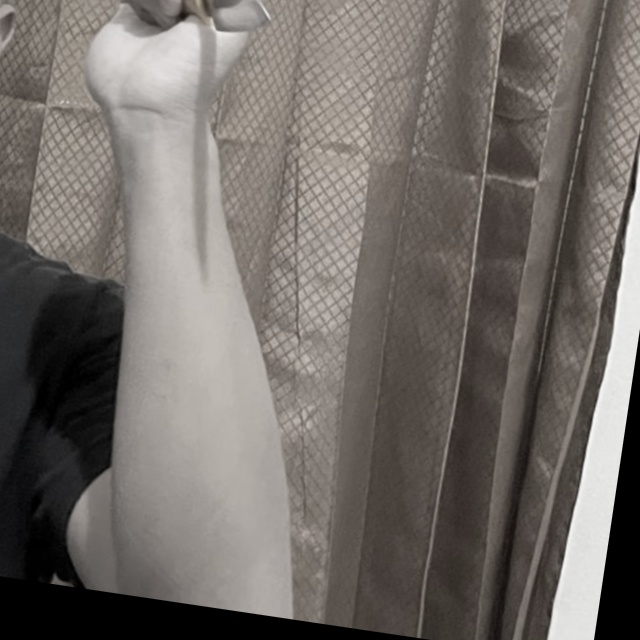Sharp-Object: (171, 0, 278, 42)
